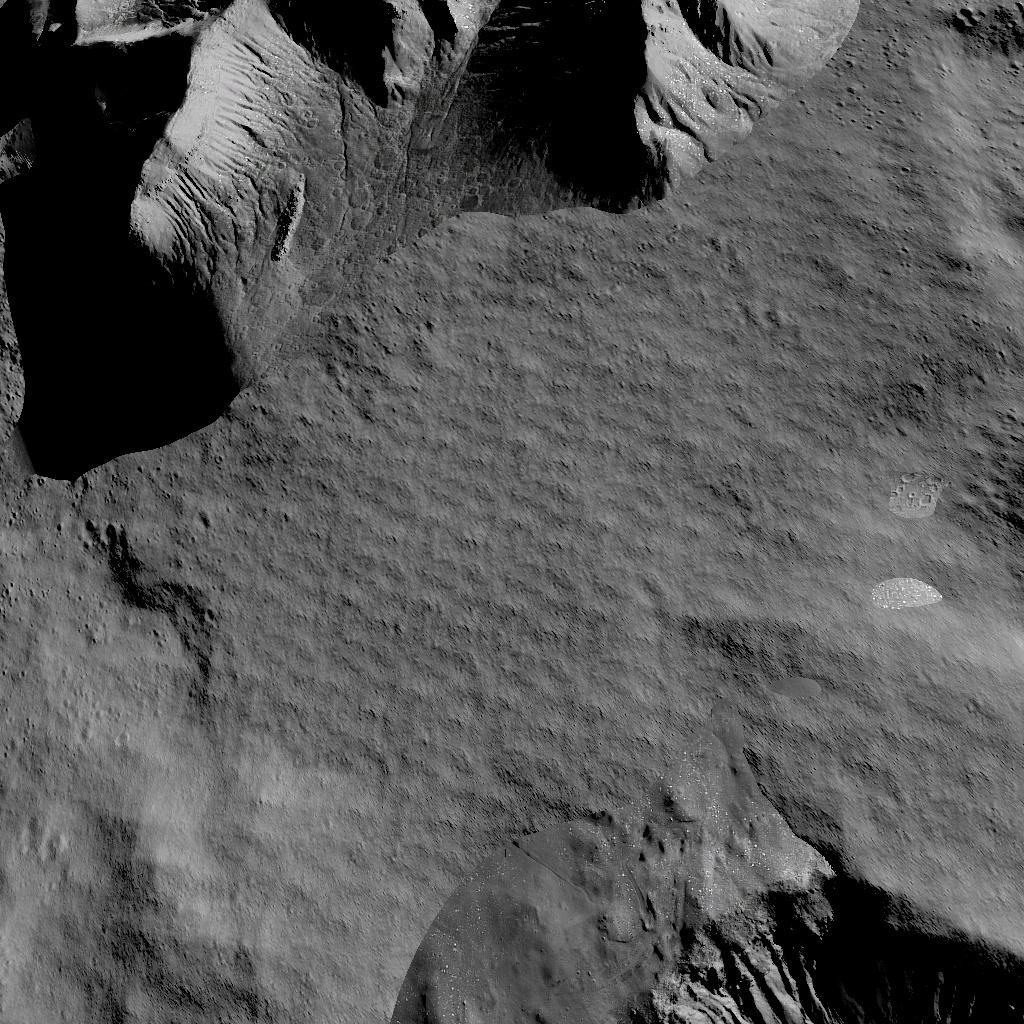Boulders: (28, 0, 868, 429)
Crater: (475, 802, 1024, 1024), (965, 426, 1024, 576), (952, 2, 1024, 45)
Plan surface: (5, 494, 441, 1024), (468, 446, 932, 767), (895, 70, 1024, 408)
